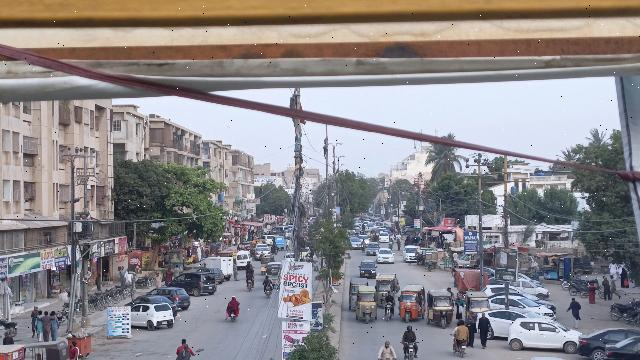Bike: (450, 337, 469, 357), (403, 340, 419, 360), (382, 300, 395, 321), (227, 307, 238, 324), (243, 279, 256, 292), (263, 286, 274, 297)
Car: (507, 317, 582, 352), (576, 323, 640, 360), (484, 307, 536, 342), (131, 301, 175, 331), (603, 334, 640, 360), (357, 259, 378, 278), (376, 247, 395, 264)
Cart: (170, 271, 217, 296), (159, 285, 192, 313)
Person: (479, 310, 492, 351), (566, 296, 583, 327), (463, 314, 478, 347), (49, 309, 62, 340), (377, 339, 397, 358), (399, 324, 419, 343), (29, 305, 40, 336), (41, 309, 51, 340), (177, 344, 192, 360), (457, 320, 469, 340), (228, 295, 241, 310), (382, 290, 396, 303), (176, 336, 188, 351), (451, 321, 461, 336), (262, 275, 273, 287), (245, 270, 255, 281)
Rickshaw: (396, 282, 427, 324), (426, 288, 453, 328), (353, 285, 379, 324), (374, 272, 400, 309), (463, 291, 490, 320), (347, 278, 370, 309)
Truck: (205, 256, 234, 279)
